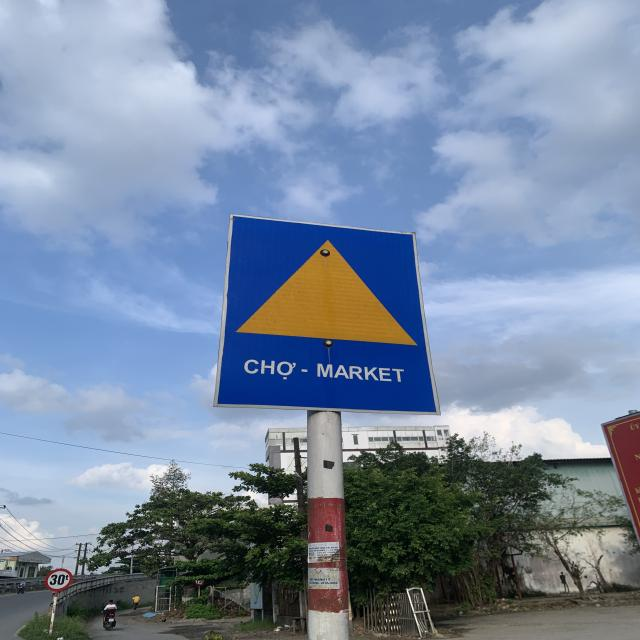Cho_Quay_Xe: (216, 214, 440, 410)
